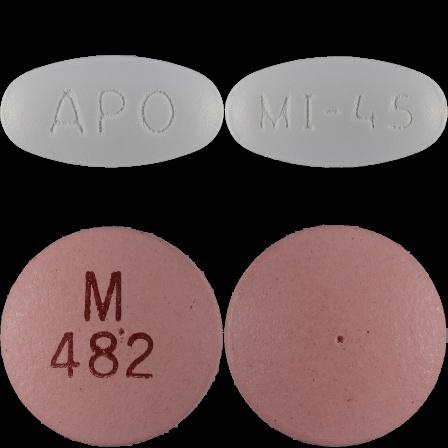53808-0484: (0, 0, 224, 224)
